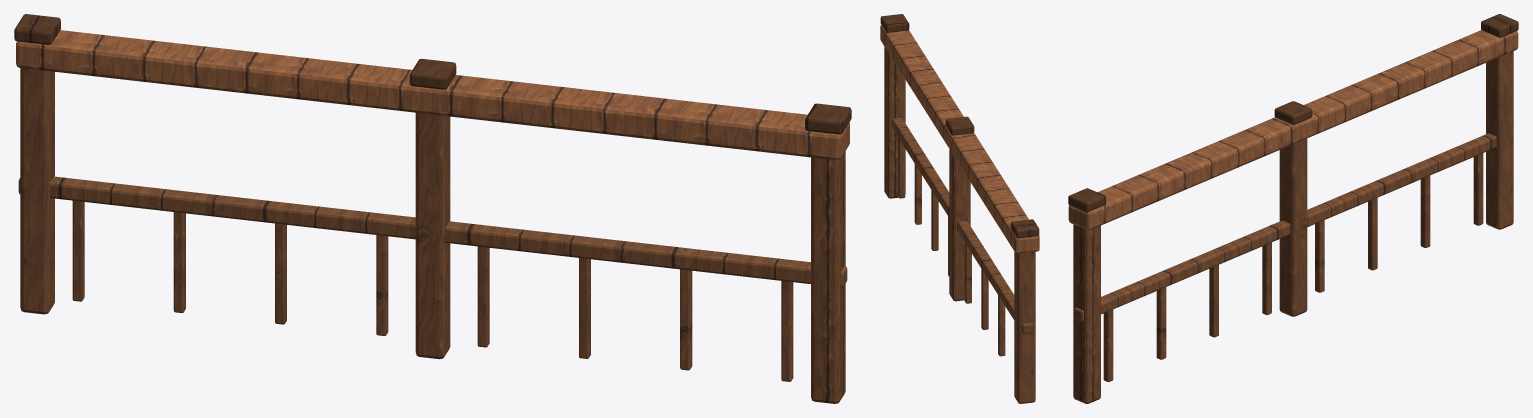
File: railing_diagonal__plank_root.glb
The picture shows the model from 3 angles, left to right: view 1: azimuth 30°, elevation 25°; view 2: azimuth 150°, elevation 25°; view 3: azimuth 270°, elevation 25°; orthographic projection. The views are drawn at different scales.
Visible parts, largest first — view 1: model; view 2: model; view 3: model.
Boxes of the visible parts, x1,y1,x2,y2 form: model: (14, 14, 851, 403); model: (880, 14, 1039, 403); model: (1068, 14, 1518, 403).
Bounding box in the file's own units: 2.09 × 1.04 × 2.09.
3 materials, 3 textured.
